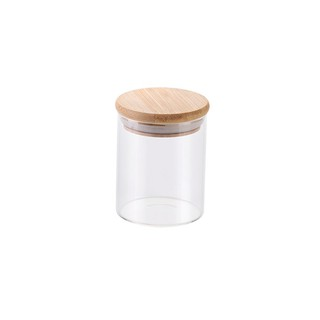glass_bottle: (114, 83, 211, 226)
